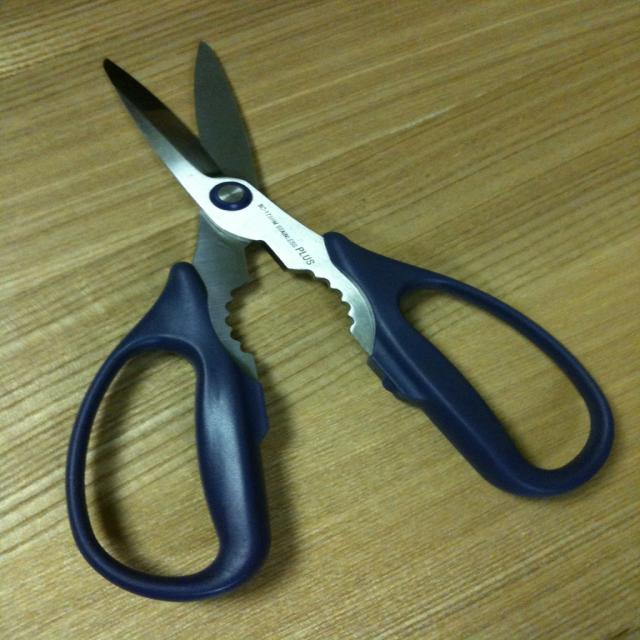scissors: (65, 39, 615, 602)
